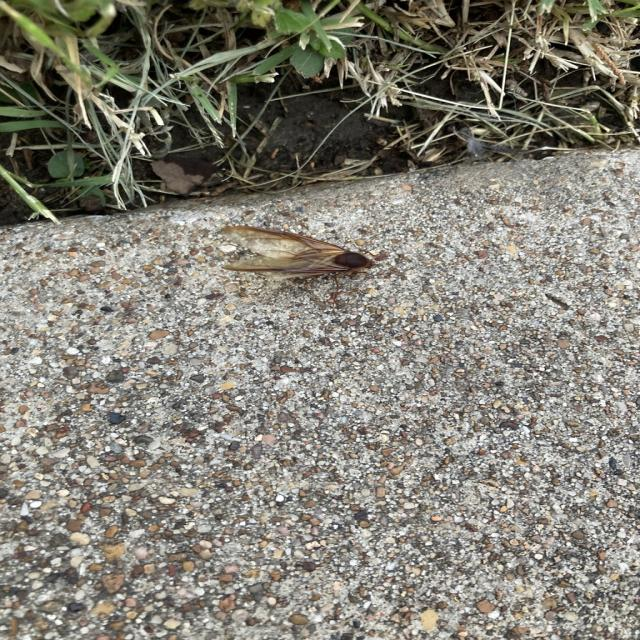Alive-Male-Alate: (220, 226, 392, 306)
